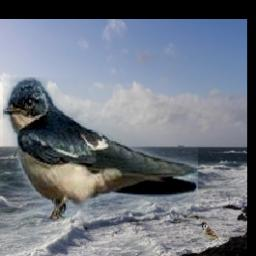Sparrow: (200, 221, 223, 246)
Swallow: (3, 77, 198, 218)
